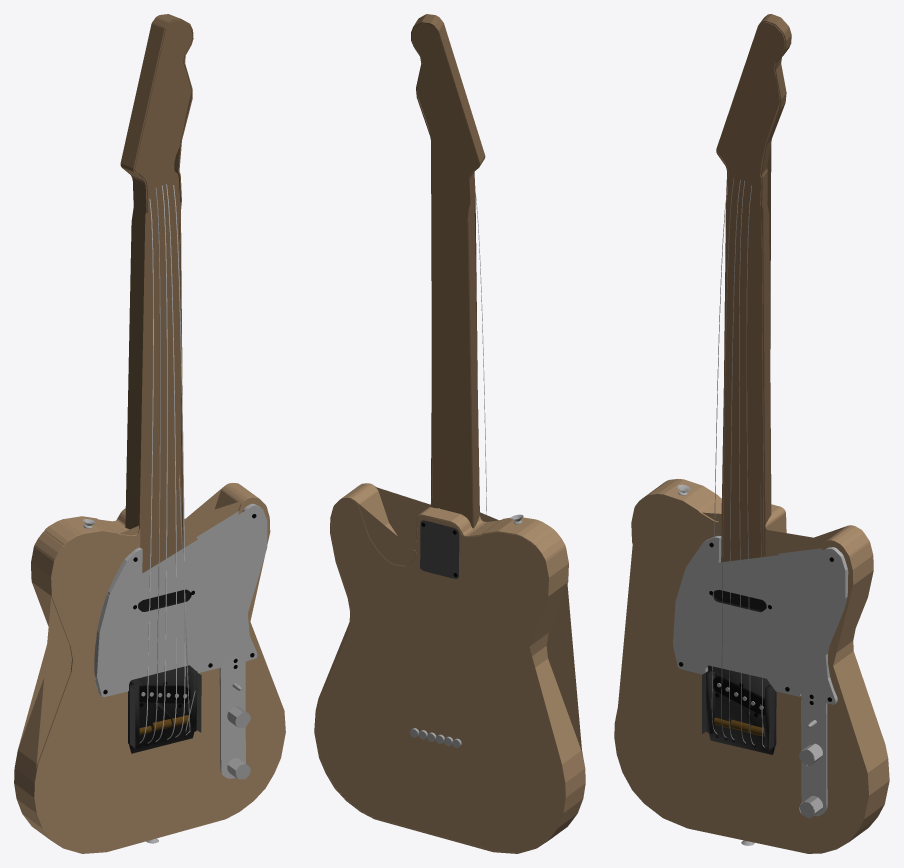
File: Telecaster.obj
3 renders of one model, left to right at view 1: azimuth 30°, elevation 25°; view 2: azimuth 150°, elevation 25°; view 3: azimuth 330°, elevation 25°, orthographic.
Parts seen in each view (by area): view 1: Guitar_Body_Mesh_Mesh.002, Guitar_Neck_Mesh_Mesh.001, Pick_Guard_Mesh_Mesh.003, Bridge_Mesh_Mesh.006, Control_Plate_Mesh_Mesh.009, Guitar_String_A_Mesh.013, Guitar_String_D_Mesh.012, Guitar_String_B_Mesh.010, Guitar_String_Low_E_Mesh.014, Guitar_String_G_Mesh.011, Bridge_Pick_Up_Mesh_Mesh.004, Volume_and_Tone_Knob_Cylinder.003 (+1 smaller); view 2: Guitar_Body_Mesh_Mesh.002, Guitar_Neck_Mesh_Mesh.001, Neck_Plate_Mesh_Mesh.008; view 3: Guitar_Body_Mesh_Mesh.002, Guitar_Neck_Mesh_Mesh.001, Pick_Guard_Mesh_Mesh.003, Bridge_Mesh_Mesh.006, Control_Plate_Mesh_Mesh.009, Bridge_Pick_Up_Mesh_Mesh.004, Volume_and_Tone_Knob_Cylinder.003, Guitar_String_B_Mesh.010, Guitar_String_D_Mesh.012, Guitar_String_A_Mesh.013, Guitar_String_Low_E_Mesh.014, Neck_Pick_Up_Mesh_Mesh.005 (+1 smaller).
Part boxes in pixels (box(x1,y1,x2,y2)): Guitar_Body_Mesh_Mesh.002: box(14, 483, 285, 853); Guitar_Neck_Mesh_Mesh.001: box(120, 14, 193, 573); Pick_Guard_Mesh_Mesh.003: box(94, 503, 267, 697); Bridge_Mesh_Mesh.006: box(128, 665, 201, 753); Control_Plate_Mesh_Mesh.009: box(219, 653, 245, 778); Guitar_String_A_Mesh.013: box(147, 187, 160, 743); Guitar_String_D_Mesh.012: box(155, 185, 167, 742); Guitar_String_B_Mesh.010: box(173, 185, 185, 737); Guitar_String_Low_E_Mesh.014: box(139, 198, 153, 743); Guitar_String_G_Mesh.011: box(166, 184, 176, 739); Bridge_Pick_Up_Mesh_Mesh.004: box(139, 685, 190, 703); Volume_and_Tone_Knob_Cylinder.003: box(227, 706, 250, 779); Guitar_Body_Mesh_Mesh.002: box(314, 483, 585, 853); Guitar_Neck_Mesh_Mesh.001: box(411, 14, 485, 528); Neck_Plate_Mesh_Mesh.008: box(420, 520, 459, 578); Guitar_Body_Mesh_Mesh.002: box(614, 479, 889, 853); Guitar_Neck_Mesh_Mesh.001: box(716, 14, 791, 562); Pick_Guard_Mesh_Mesh.003: box(673, 536, 848, 704); Bridge_Mesh_Mesh.006: box(702, 665, 776, 754); Control_Plate_Mesh_Mesh.009: box(801, 687, 827, 816); Bridge_Pick_Up_Mesh_Mesh.004: box(713, 676, 764, 715); Volume_and_Tone_Knob_Cylinder.003: box(799, 743, 822, 818); Guitar_String_B_Mesh.010: box(746, 185, 754, 745); Guitar_String_D_Mesh.012: box(729, 180, 740, 739); Guitar_String_A_Mesh.013: box(721, 178, 734, 737); Guitar_String_Low_E_Mesh.014: box(711, 187, 727, 734); Neck_Pick_Up_Mesh_Mesh.005: box(712, 590, 766, 612).
Bounding box in the file's own units: 3.23 × 10 × 0.6869.
